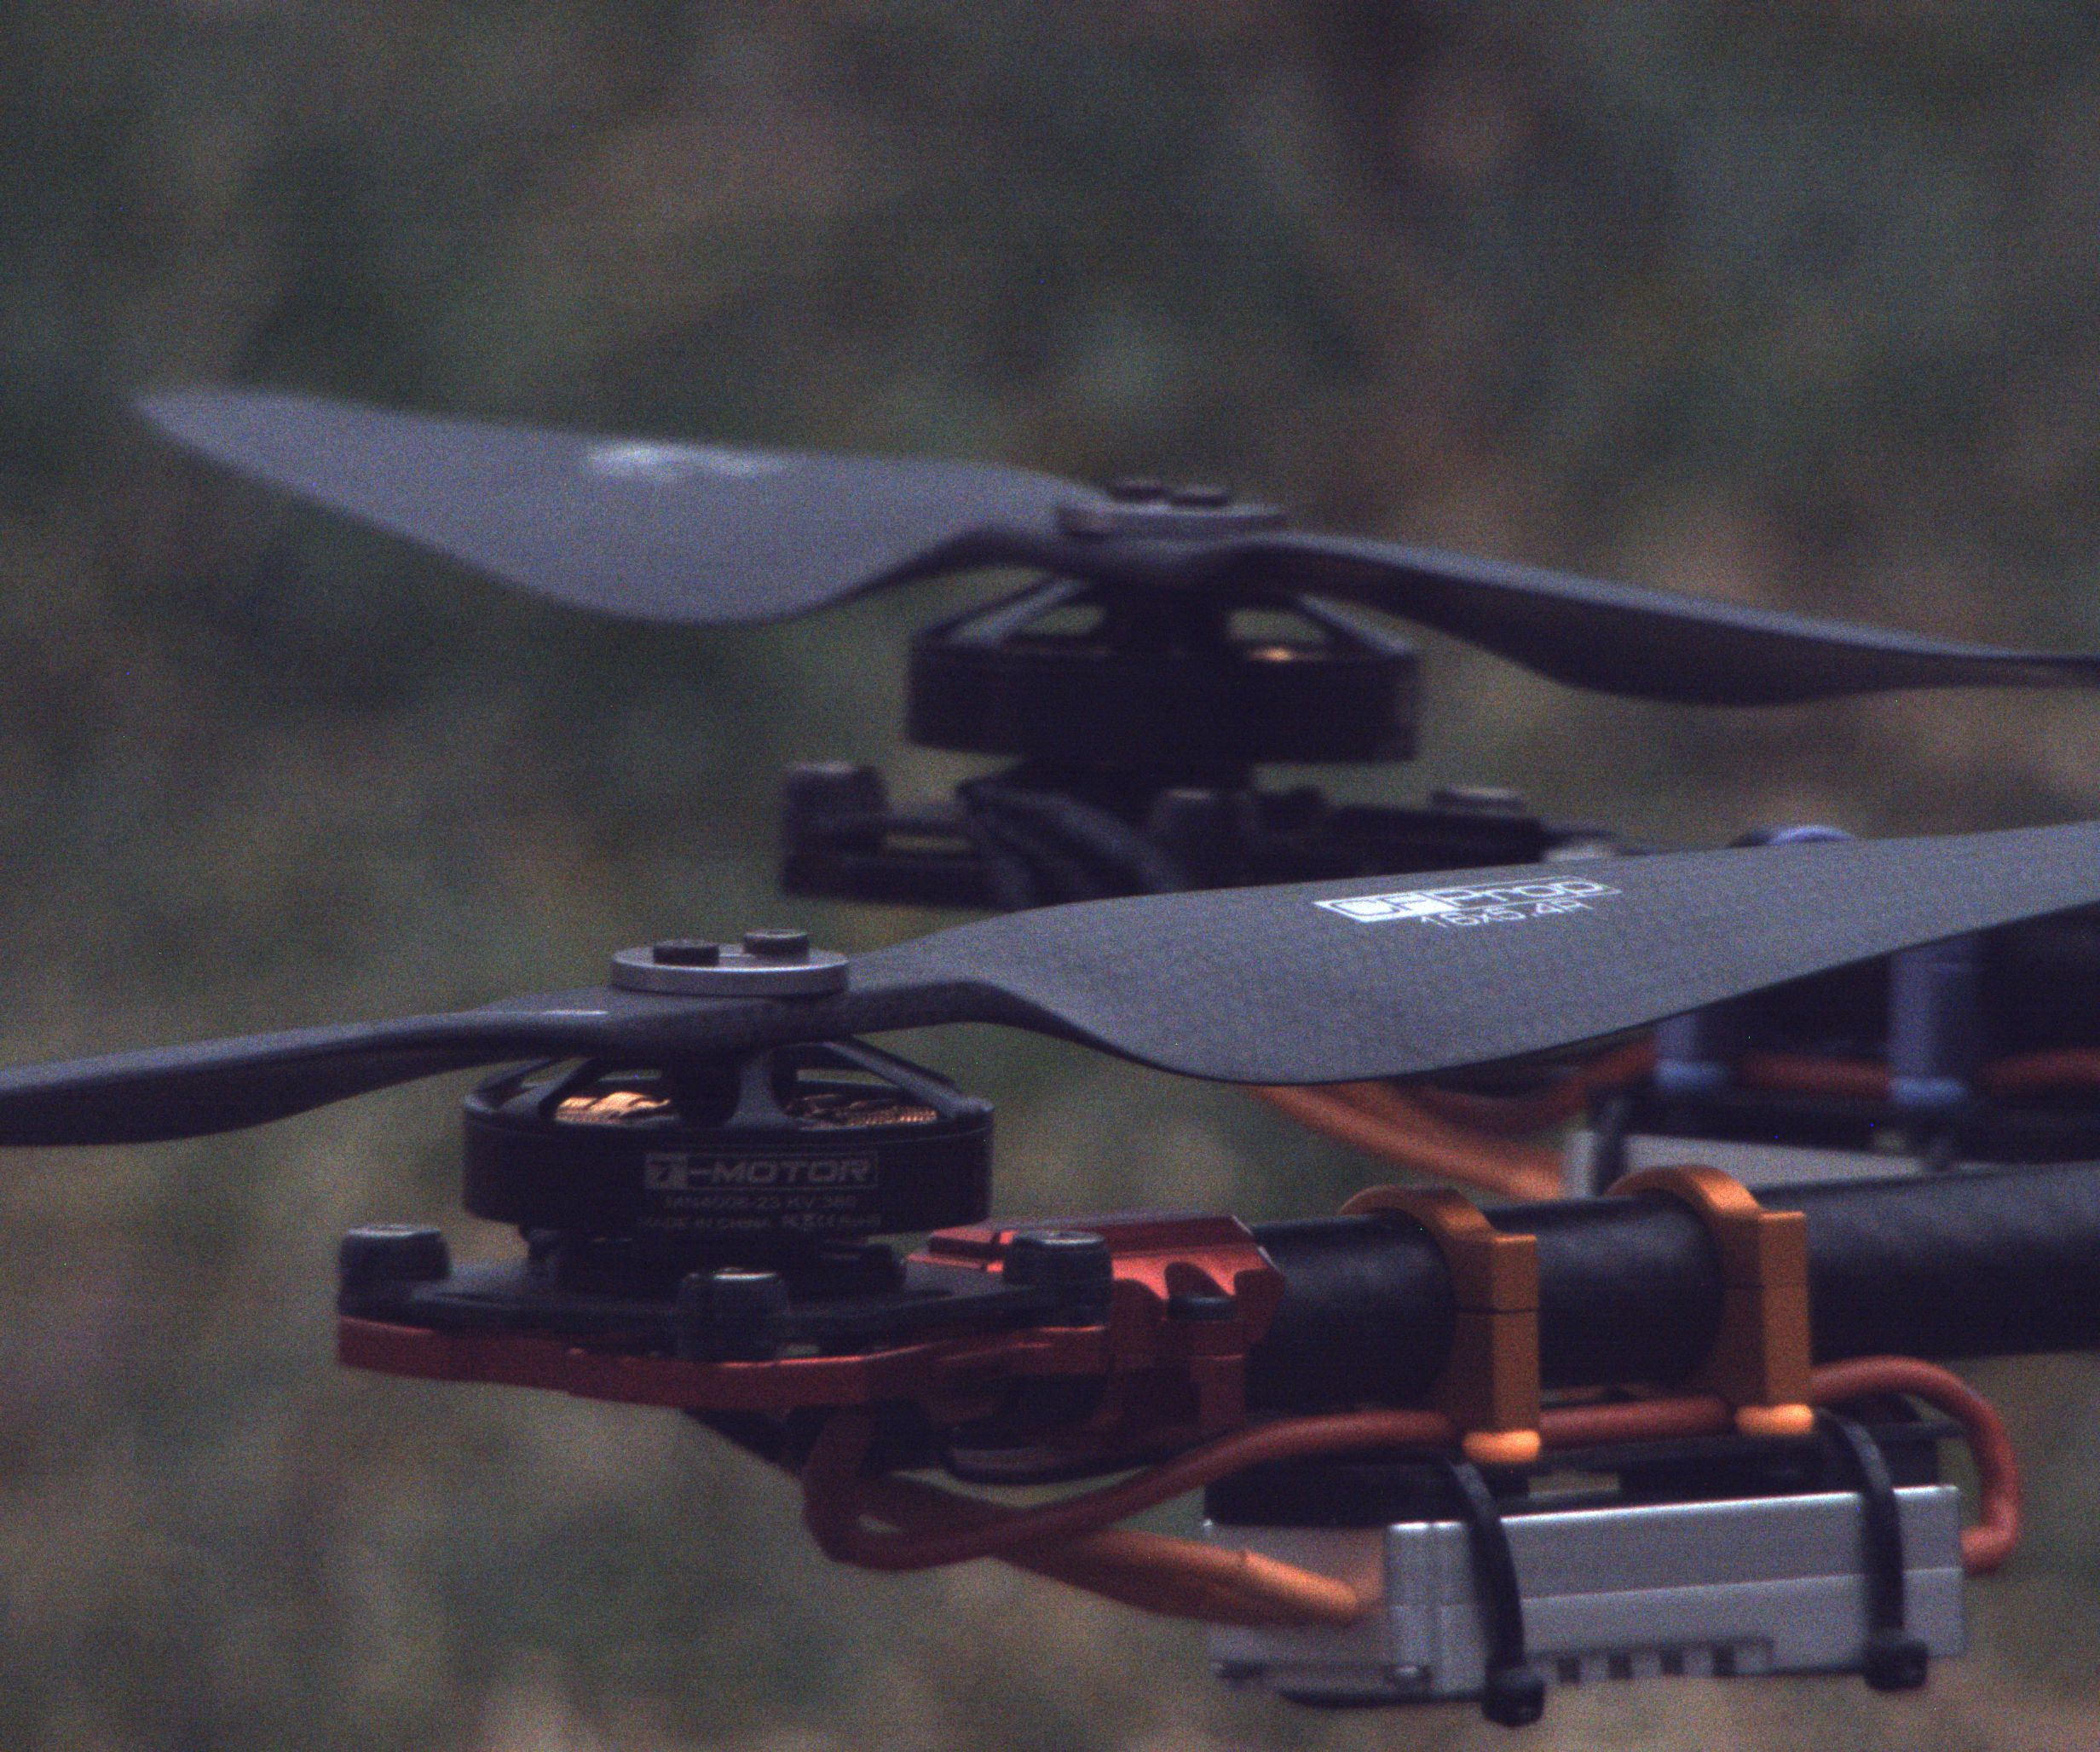Drohne: (10, 370, 2097, 1743)
